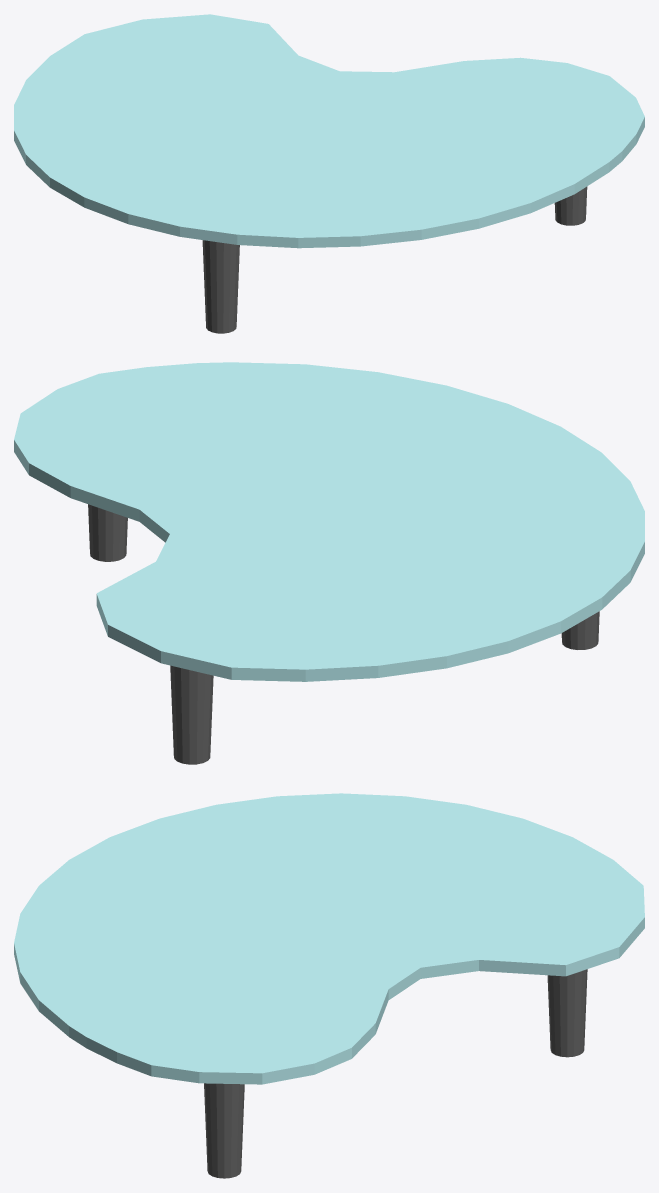
Rendered from Mesa_Cristal.fbx.
3 views of the same model, one above another, from view 1: azimuth 30°, elevation 25°; view 2: azimuth 150°, elevation 25°; view 3: azimuth 270°, elevation 25° (orthographic). The views are drawn at different scales.
Parts seen in each view (by area): view 1: Mesa_Cristal, Cylinder.1425, Cylinder.1424; view 2: Mesa_Cristal, Cylinder.1423, Cylinder.1424, Cylinder.1425; view 3: Mesa_Cristal, Cylinder.1424, Cylinder.1423.
Part boxes in pixels (x1,y1,x2,y2): Mesa_Cristal: (14,14,644,248); Cylinder.1425: (202,240,239,333); Cylinder.1424: (554,186,587,225); Mesa_Cristal: (14,362,644,681); Cylinder.1423: (170,665,213,764); Cylinder.1424: (88,504,127,561); Cylinder.1425: (561,611,599,649); Mesa_Cristal: (14,793,644,1084); Cylinder.1424: (204,1083,244,1178); Cylinder.1423: (547,969,587,1057).
Size of the model in its own units: 228 by 48.66 by 217.
